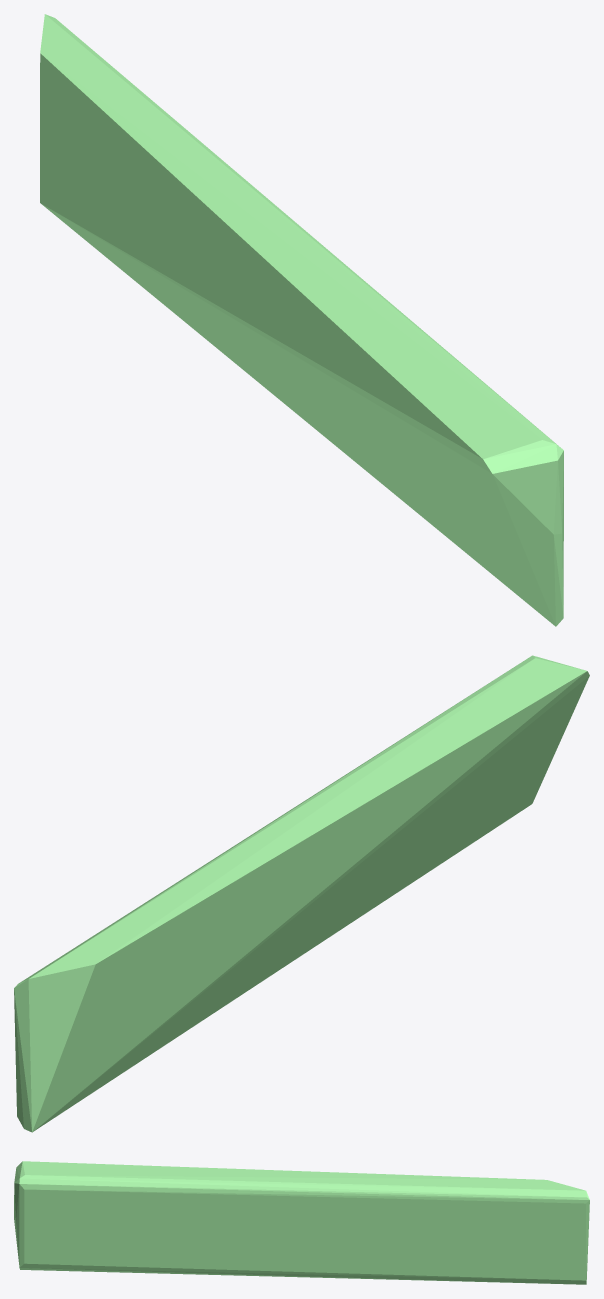
The model's file is dvkr_robot_L2_respondable_PSM1_coll_8.dae.
The picture shows the model from 3 angles, top to bottom: view 1: azimuth 30°, elevation 25°; view 2: azimuth 150°, elevation 25°; view 3: azimuth 270°, elevation 25°; orthographic projection. The views are drawn at different scales.
Parts seen in each view (by area): view 1: Node_0000023514CD9BB0; view 2: Node_0000023514CD9BB0; view 3: Node_0000023514CD9BB0.
Boxes of the visible parts, x1=… form: Node_0000023514CD9BB0: x1=40, y1=14, x2=563, y2=626; Node_0000023514CD9BB0: x1=14, y1=655, x2=589, y2=1132; Node_0000023514CD9BB0: x1=14, y1=1161, x2=589, y2=1284.
Size of the model in its own units: 0.0591 by 0.0761 by 0.4218.
